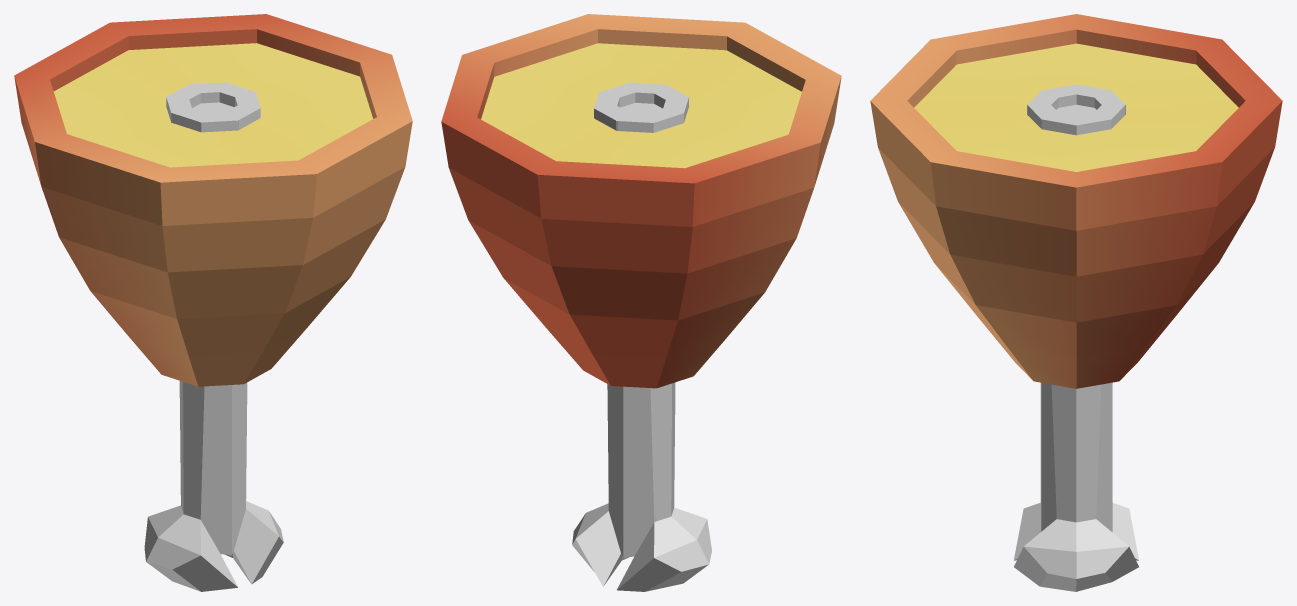
File: Meat.fbx
3 views of the same model, side by side, from view 1: azimuth 30°, elevation 25°; view 2: azimuth 150°, elevation 25°; view 3: azimuth 270°, elevation 25° (orthographic).
Visible parts, largest first — view 1: Body, Top, Bone; view 2: Body, Top, Bone; view 3: Body, Top, Bone.
Part boxes in pixels (x1,y1,x2,y2): Body: [14, 14, 412, 386]; Top: [53, 43, 372, 167]; Bone: [144, 82, 283, 591]; Body: [441, 14, 841, 388]; Top: [481, 43, 801, 168]; Bone: [572, 82, 711, 591]; Body: [870, 14, 1282, 388]; Top: [914, 43, 1238, 171]; Bone: [1013, 84, 1139, 591].
Size of the model in its own units: 0.3068 by 0.3879 by 0.3078.
Materials: 1 (1 with a texture image).
